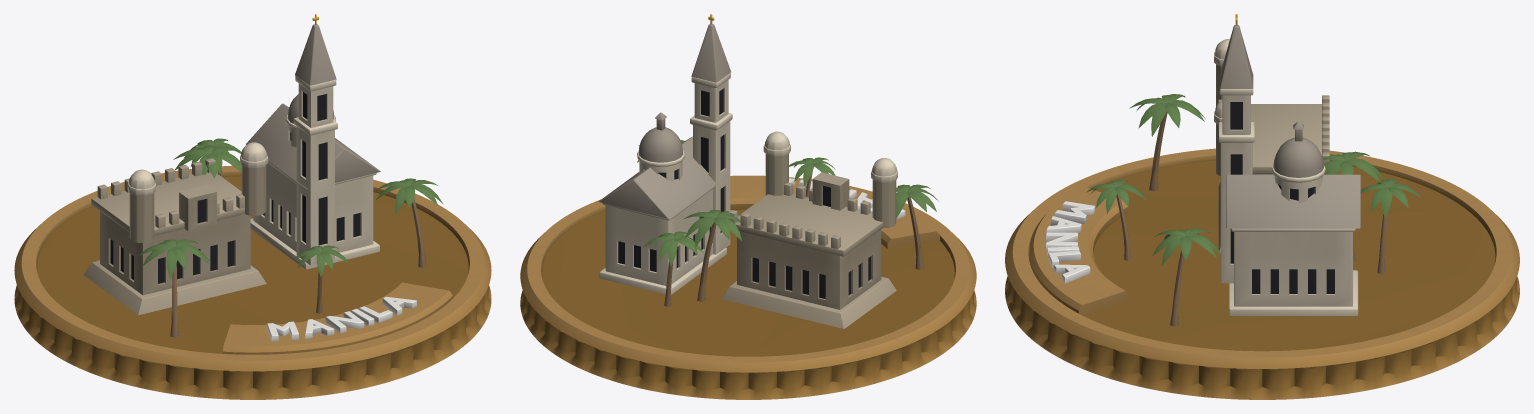
The model's file is city_bundle_manila.glb.
3 views of the same model, side by side, from view 1: azimuth 30°, elevation 25°; view 2: azimuth 150°, elevation 25°; view 3: azimuth 270°, elevation 25° (orthographic). The views are drawn at different scales.
Parts seen in each view (by area): view 1: Plinth_Body, Fort_Coral, Cathedral_Stone, Plinth_Nameplate, Palms, Cathedral_Roofs, Plinth_Text_MANILA; view 2: Plinth_Body, Fort_Coral, Cathedral_Stone, Cathedral_Roofs, Palms, Plinth_Nameplate; view 3: Plinth_Body, Cathedral_Stone, Cathedral_Roofs, Palms, Plinth_Nameplate, Fort_Coral, Plinth_Text_MANILA.
Boxes of the visible parts, x1,y1,x2,y2 form: Plinth_Body: [14, 165, 491, 399]; Fort_Coral: [84, 142, 268, 315]; Cathedral_Stone: [250, 75, 379, 269]; Plinth_Nameplate: [223, 282, 452, 354]; Palms: [139, 138, 442, 337]; Cathedral_Roofs: [246, 14, 380, 189]; Plinth_Text_MANILA: [267, 296, 416, 341]; Plinth_Body: [520, 175, 976, 399]; Fort_Coral: [721, 131, 897, 328]; Cathedral_Stone: [599, 73, 732, 294]; Cathedral_Roofs: [598, 14, 730, 218]; Palms: [637, 140, 938, 306]; Plinth_Nameplate: [730, 177, 939, 249]; Plinth_Body: [1005, 148, 1519, 399]; Cathedral_Stone: [1218, 89, 1358, 315]; Cathedral_Roofs: [1219, 14, 1360, 228]; Palms: [1086, 94, 1423, 326]; Plinth_Nameplate: [1029, 186, 1128, 315]; Fort_Coral: [1214, 39, 1329, 252]; Plinth_Text_MANILA: [1046, 201, 1094, 283].
Size of the model in its own units: 1.99 by 1.31 by 1.99.
